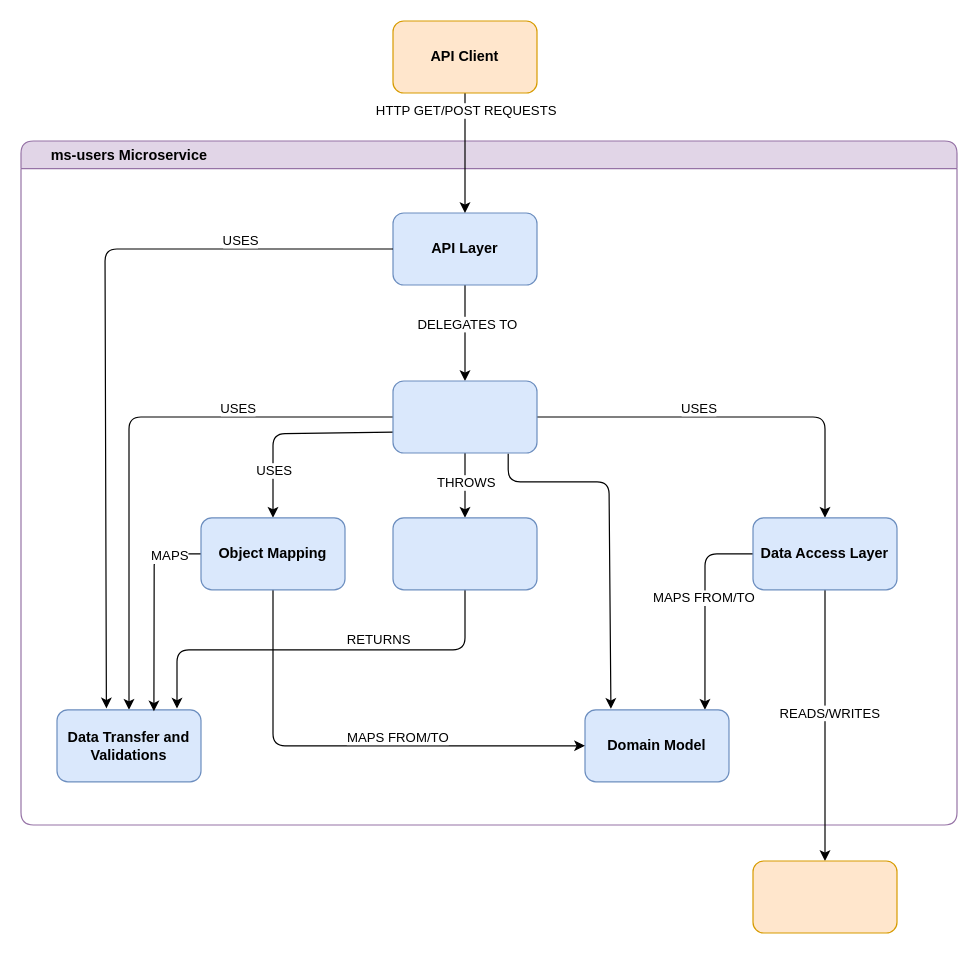
This 978x954 diagram has some shape labels left out. The centre of each missing label's shape, as x and y in pixels:
"Exception Handling" goes at point 464,553.
"H2 DataBase" goes at point 824,896.
"Service Layer" goes at point 464,416.
